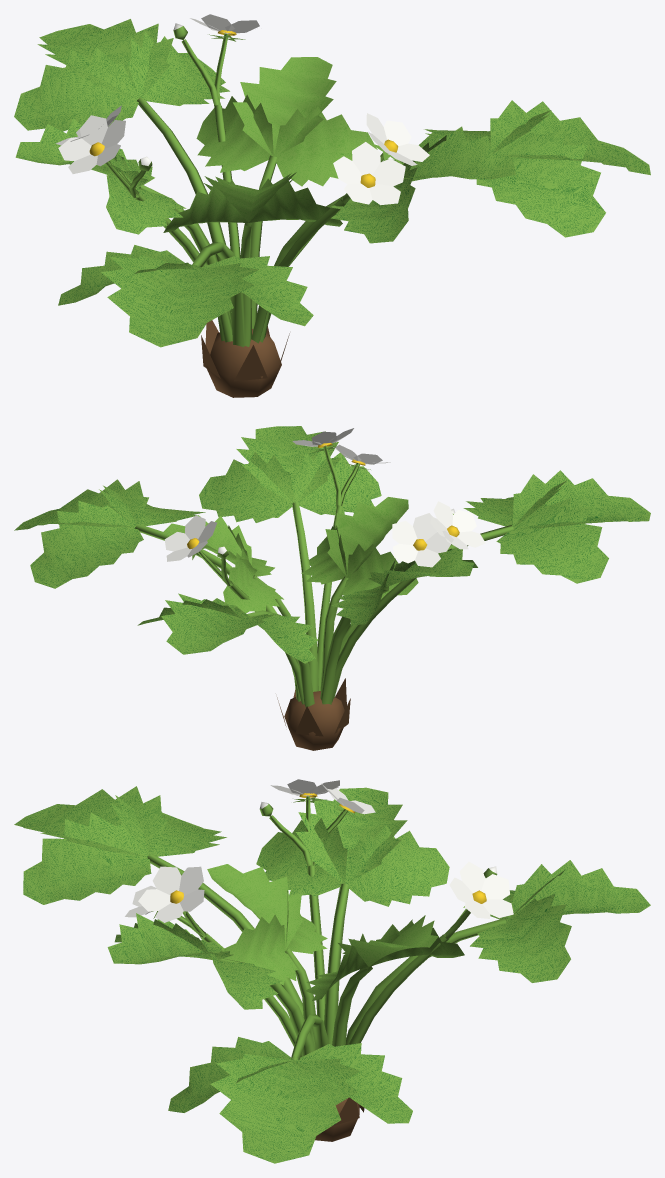
The model's file is strawberry_s3_flowering.obj.
3 views of the same model, one above another, from view 1: azimuth 30°, elevation 25°; view 2: azimuth 150°, elevation 25°; view 3: azimuth 270°, elevation 25° (orthographic). The views are drawn at different scales.
Visible parts, largest first — view 1: Leaves, Flowers, Crown; view 2: Leaves, Flowers, Crown; view 3: Leaves, Flowers, Crown.
Part boxes in pixels (x1=…): Leaves: x1=14, y1=19, x2=650, y2=347; Flowers: x1=56, y1=14, x2=429, y2=343; Crown: x1=201, y1=320, x2=289, y2=397; Leaves: x1=14, y1=426, x2=650, y2=707; Flowers: x1=164, y1=428, x2=485, y2=704; Crown: x1=277, y1=678, x2=350, y2=750; Leaves: x1=14, y1=786, x2=650, y2=1163; Flowers: x1=125, y1=779, x2=513, y2=1057; Crown: x1=315, y1=1097, x2=364, y2=1141.
Size of the model in its own units: 0.5688 by 0.2617 by 0.5193.
